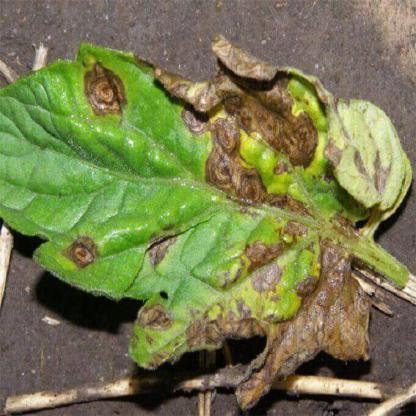Potato leaf early blight: (2, 35, 412, 401)
